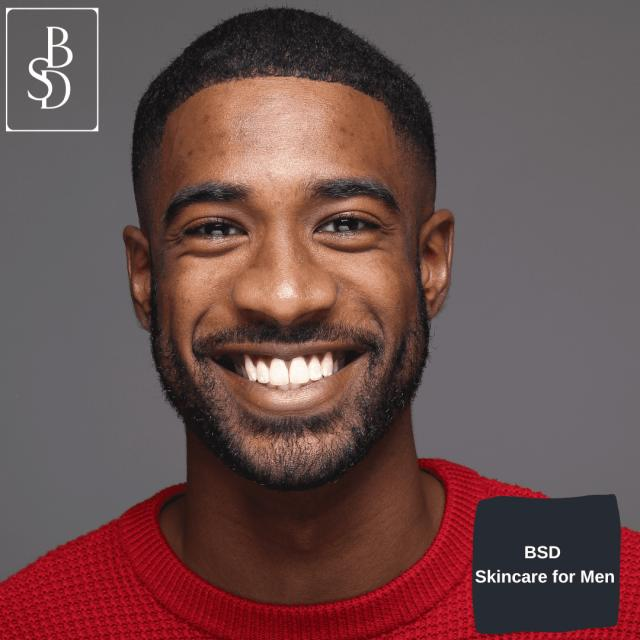sem_oculos: (124, 174, 451, 265)
